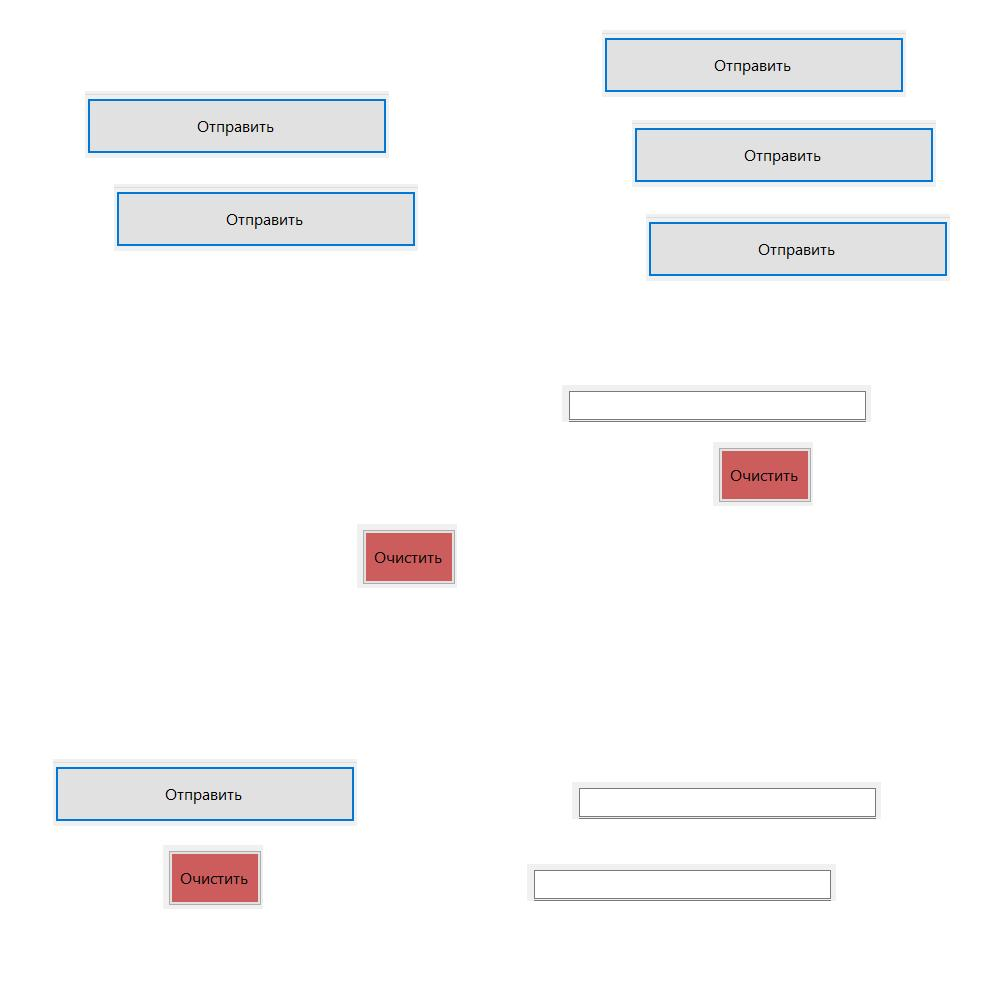Button: (114, 184, 418, 251), (53, 759, 357, 826), (646, 214, 950, 281), (602, 30, 906, 97), (85, 91, 389, 158), (632, 120, 936, 187), (163, 845, 263, 909), (713, 442, 813, 506), (357, 524, 457, 588)
EditText-: (527, 864, 836, 901), (572, 782, 881, 819), (562, 385, 871, 422)
